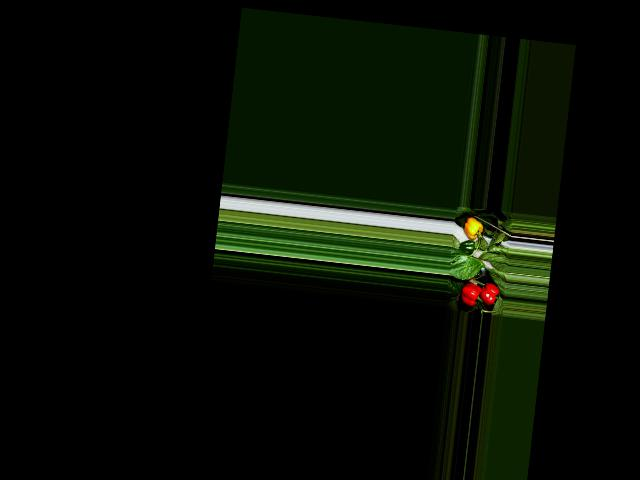bell_pepper: (461, 214, 485, 241)
